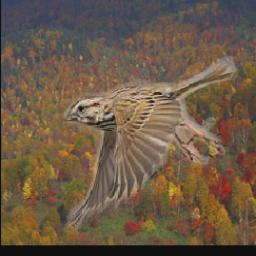Sparrow: (65, 52, 239, 230)
